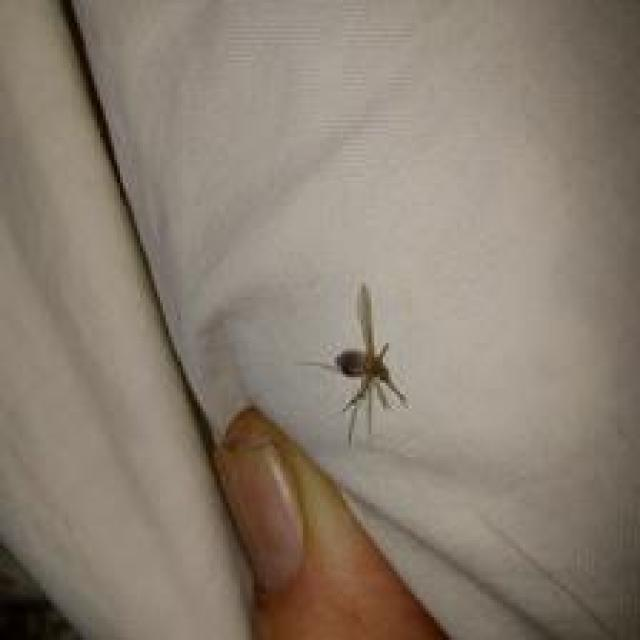Culex: (297, 280, 412, 446)
